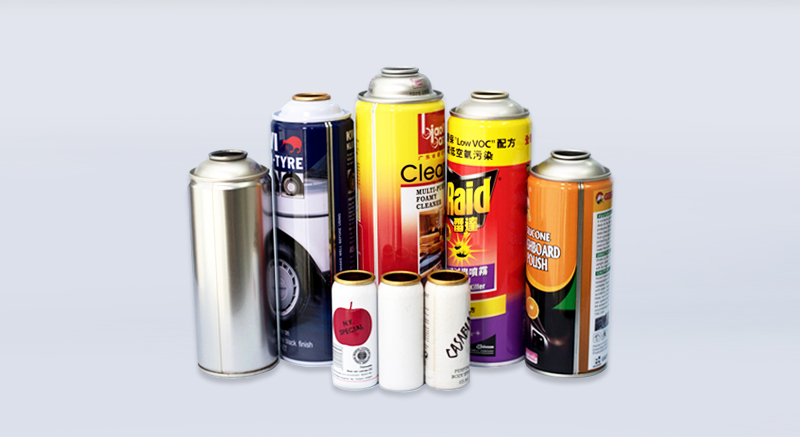Aerosol_cans: (268, 88, 362, 368), (445, 81, 531, 370), (186, 145, 283, 381), (353, 63, 448, 280), (524, 148, 610, 384), (328, 268, 383, 394), (375, 269, 428, 394), (424, 266, 474, 395)
